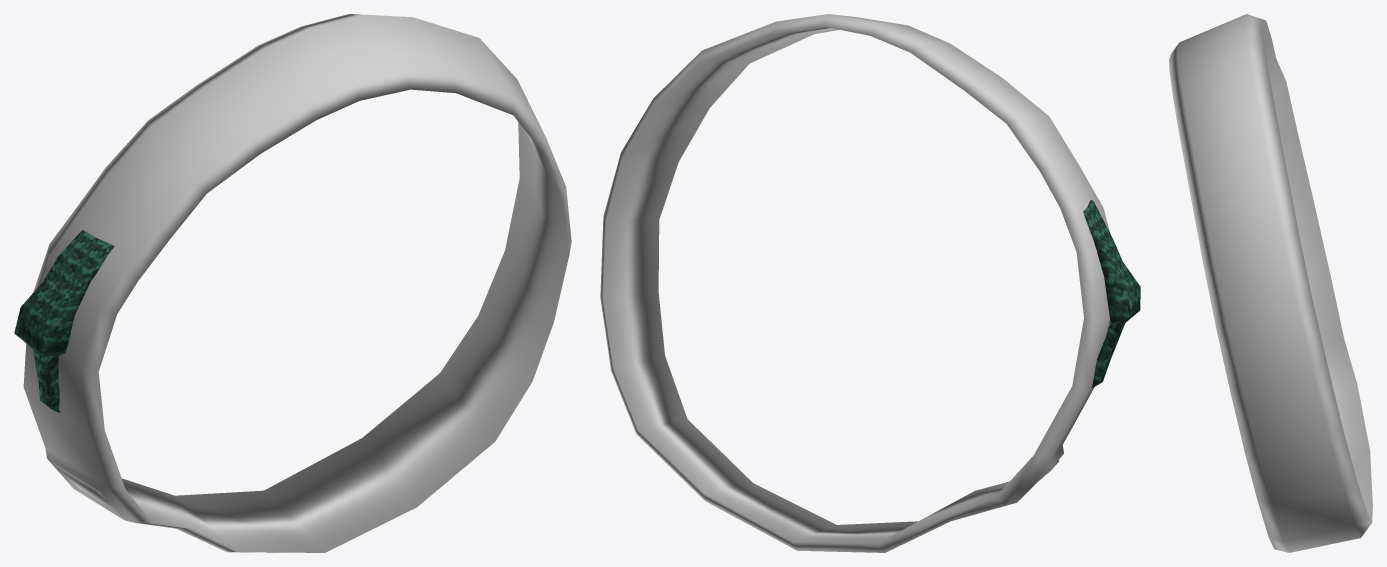
File: fixation_mat_on_STB_SQ2.fbx
3 views of the same model, side by side, from view 1: azimuth 30°, elevation 25°; view 2: azimuth 150°, elevation 25°; view 3: azimuth 270°, elevation 25° (orthographic). The views are drawn at different scales.
Visible parts, largest first — view 1: fixation_mat_on_STB_SQ2; view 2: fixation_mat_on_STB_SQ2; view 3: fixation_mat_on_STB_SQ2.
Boxes of the visible parts, x1,y1,x2,y2 form: fixation_mat_on_STB_SQ2: [14, 14, 571, 552]; fixation_mat_on_STB_SQ2: [600, 14, 1140, 552]; fixation_mat_on_STB_SQ2: [1169, 14, 1372, 552].
Size of the model in its own units: 0.2384 by 0.2267 by 0.0852.
